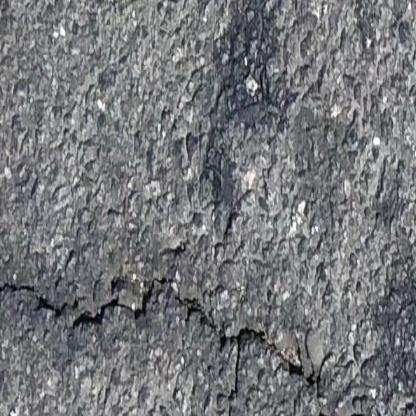Cracks: (174, 294, 323, 416), (0, 269, 175, 333)
